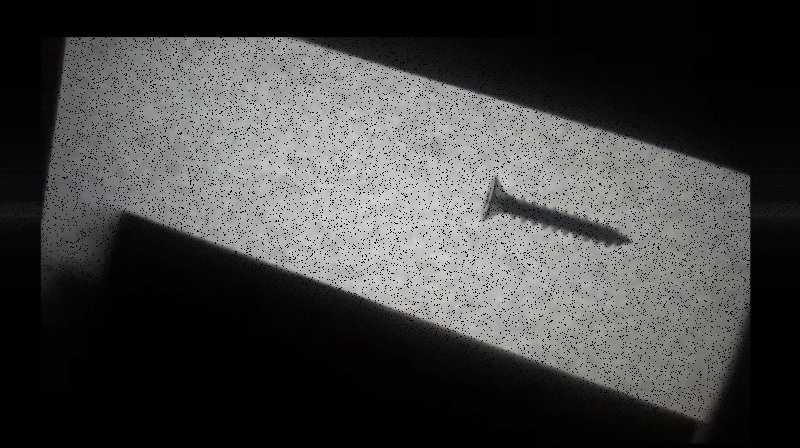S001: (476, 171, 637, 249)
